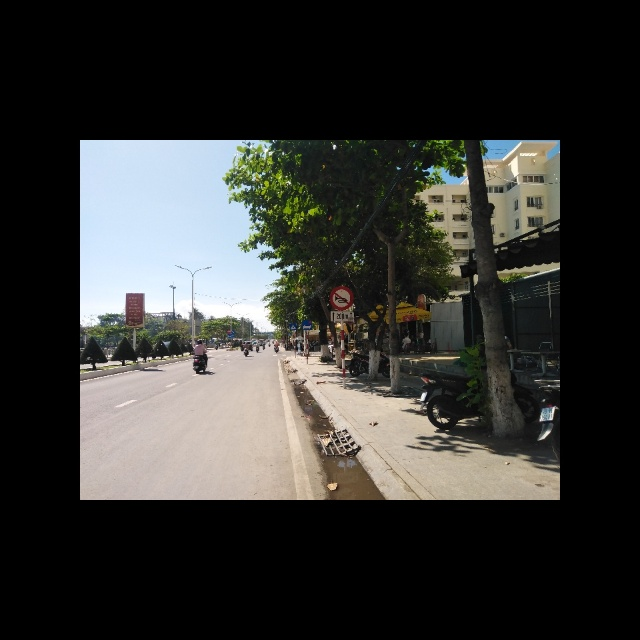Bệnh viện: (302, 320, 312, 330)
Cấm bấm còi: (330, 286, 354, 311)
Đường dành cho người đi bộ: (289, 322, 297, 330)
